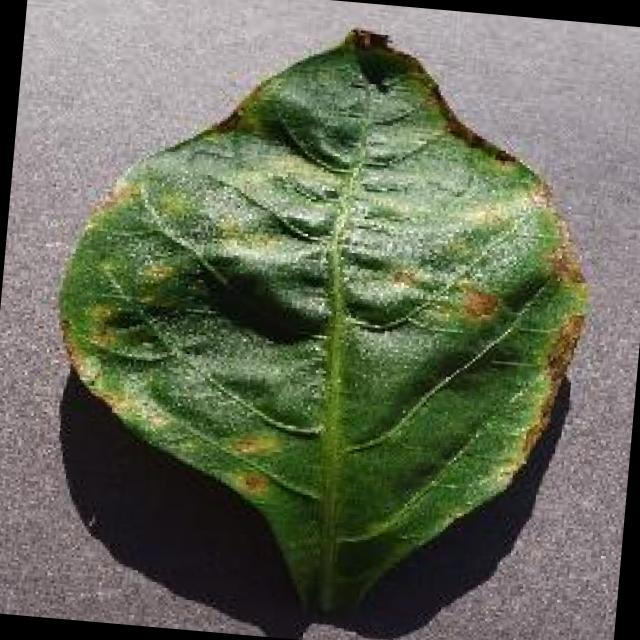Chilli_Bacterial_Spot: (27, 0, 615, 640), (216, 424, 288, 502), (222, 424, 286, 462), (452, 282, 503, 328), (132, 254, 180, 292), (342, 21, 394, 55), (383, 260, 423, 294), (232, 466, 272, 498)
